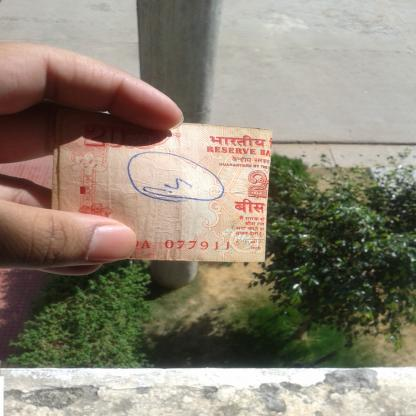Old20Front: (61, 116, 274, 260)
